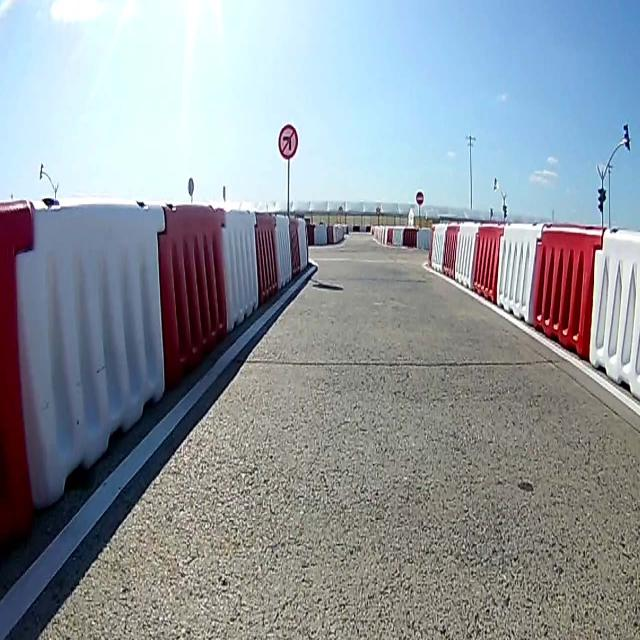girisyok: (416, 190, 424, 206)
soladonulmez: (278, 124, 298, 159)
